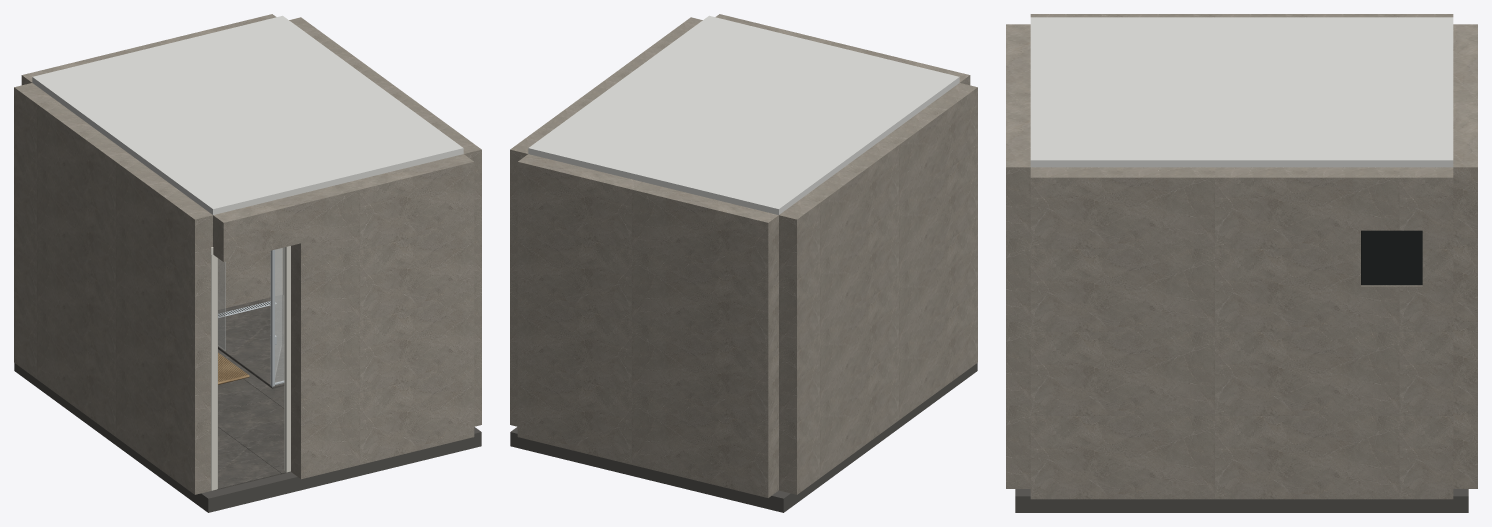
File: 20_Alternatif_6_3.glb
The picture shows the model from 3 angles, left to right: view 1: azimuth 30°, elevation 25°; view 2: azimuth 150°, elevation 25°; view 3: azimuth 270°, elevation 25°; orthographic projection. The views are drawn at different scales.
Parts seen in each view (by area): view 1: Sol duvar, Ön duvar | sunum için gizli, Tavan | plan görünümünde gizlenir, Zemin taşıyıcı, Sağ duvar / gerçek pencere boşluğu, Arka duvar / gerçek niş boşlukları, Duş eğimli zemin sınırı 90x140, Zemin seramik / derz 2mm.006, Zemin seramik / derz 2mm, Kapı pervazı, Kapı pervazı.001, Kabin ön sabit cam (+6 smaller); view 2: Arka duvar / gerçek niş boşlukları, Sol duvar, Tavan | plan görünümünde gizlenir, Zemin taşıyıcı, Sağ duvar / gerçek pencere boşluğu, Ön duvar | sunum için gizli; view 3: Sağ duvar / gerçek pencere boşluğu, Tavan | plan görünümünde gizlenir, Arka duvar / gerçek niş boşlukları, Ön duvar | sunum için gizli, Zemin taşıyıcı, Havalandırma karanlık iç boşluğu, Sol duvar.
Part boxes in pixels (x1=…): Sol duvar: x1=14, y1=83, x2=212, y2=494; Ön duvar | sunum için gizli: x1=213, y1=154, x2=474, y2=479; Tavan | plan görünümünde gizlenir: x1=32, y1=15, x2=463, y2=214; Zemin taşıyıcı: x1=14, y1=363, x2=481, y2=512; Sağ duvar / gerçek pencere boşluğu: x1=283, y1=17, x2=481, y2=426; Arka duvar / gerçek niş boşlukları: x1=21, y1=14, x2=282, y2=309; Duş eğimli zemin sınırı 90x140: x1=218, y1=294, x2=284, y2=388; Zemin seramik / derz 2mm.006: x1=218, y1=399, x2=284, y2=444; Zemin seramik / derz 2mm: x1=213, y1=444, x2=281, y2=490; Kapı pervazı: x1=211, y1=253, x2=217, y2=490; Kapı pervazı.001: x1=284, y1=246, x2=290, y2=472; Kabin ön sabit cam: x1=275, y1=248, x2=283, y2=382; Arka duvar / gerçek niş boşlukları: x1=517, y1=154, x2=778, y2=497; Sol duvar: x1=779, y1=83, x2=977, y2=494; Tavan | plan görünümünde gizlenir: x1=528, y1=15, x2=959, y2=214; Zemin taşıyıcı: x1=510, y1=363, x2=977, y2=512; Sağ duvar / gerçek pencere boşluğu: x1=510, y1=17, x2=702, y2=426; Ön duvar | sunum için gizli: x1=715, y1=14, x2=970, y2=85; Sağ duvar / gerçek pencere boşluğu: x1=1030, y1=167, x2=1453, y2=499; Tavan | plan görünümünde gizlenir: x1=1030, y1=17, x2=1453, y2=167; Arka duvar / gerçek niş boşlukları: x1=1453, y1=24, x2=1477, y2=488; Ön duvar | sunum için gizli: x1=1006, y1=24, x2=1030, y2=488; Zemin taşıyıcı: x1=1015, y1=489, x2=1468, y2=512; Havalandırma karanlık iç boşluğu: x1=1361, y1=230, x2=1422, y2=285; Sol duvar: x1=1030, y1=14, x2=1453, y2=17.
Size of the model in its own units: 2.52 by 2.49 by 3.07.
Materials: 17 (6 with a texture image).
